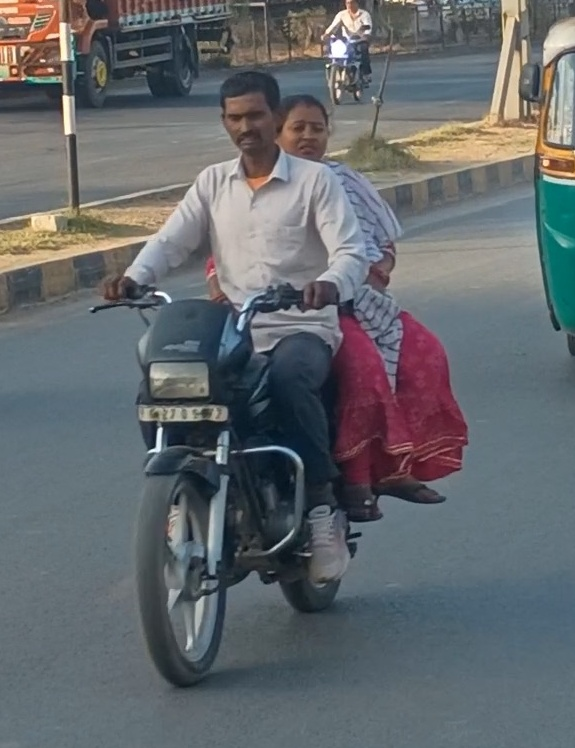BikeWithRider: (76, 54, 494, 693), (298, 0, 421, 104)
NoHelmet: (209, 67, 284, 159), (272, 92, 340, 166), (334, 0, 370, 21)
